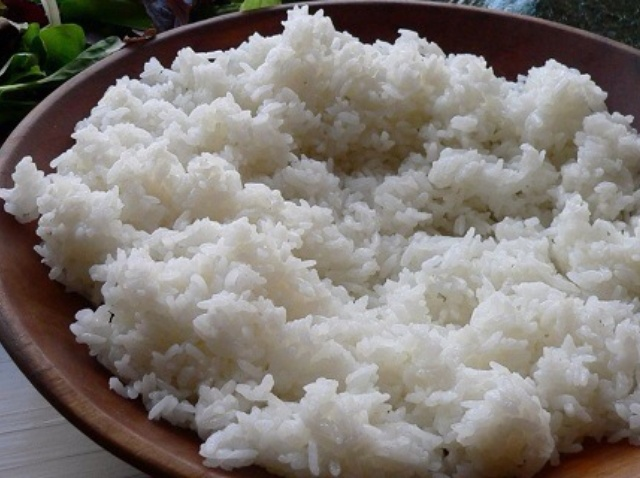rice: (6, 15, 640, 473)
